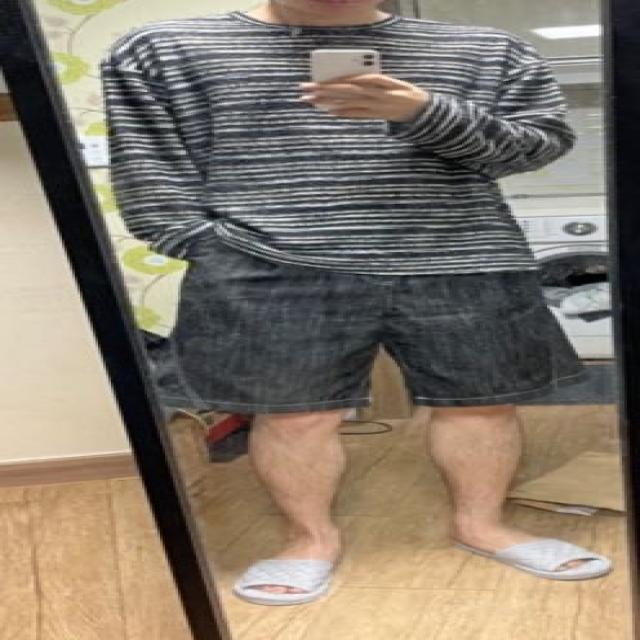longsleeve: (107, 13, 578, 256)
shortpants: (172, 267, 596, 421)
